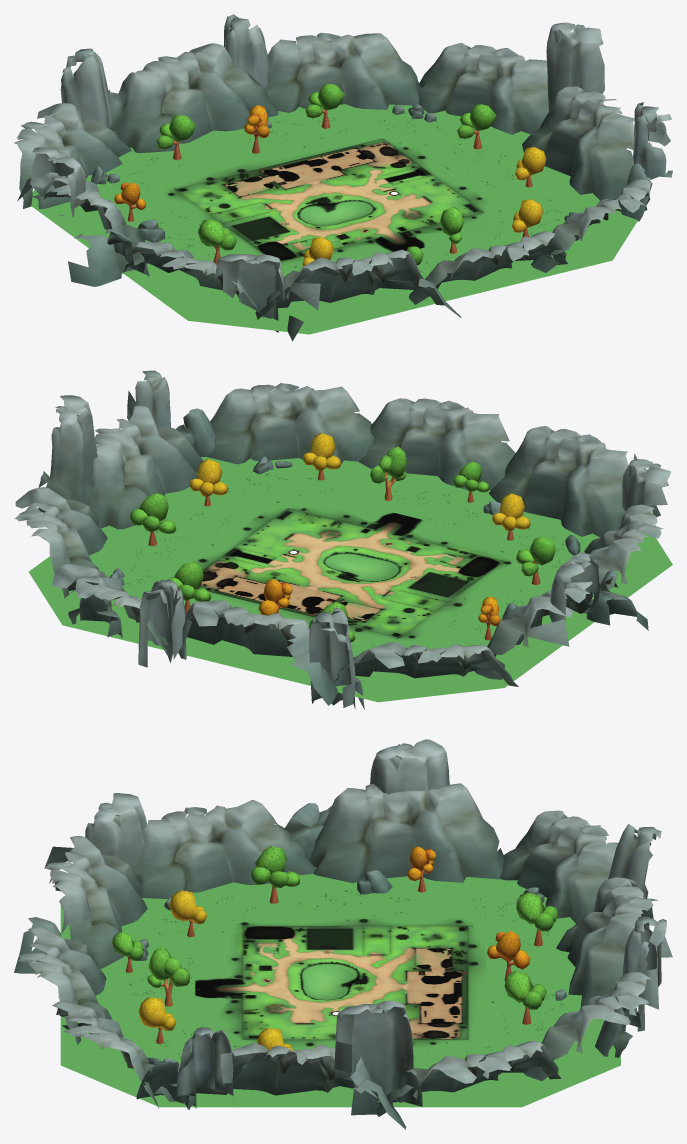
File: Map_Background.fbx
3 renders of one model, top to bottom at view 1: azimuth 30°, elevation 25°; view 2: azimuth 150°, elevation 25°; view 3: azimuth 270°, elevation 25°, orthographic. The views are drawn at different scales.
Parts seen in each view (by area): view 1: Ground, model_1.005, model_1.015, model_1.006, model_1.007, model_1.009, model_1.004, model_1.011, model_1.012, model_1.016, model_1.014, model_2.006 (+17 smaller); view 2: Ground, model_1.009, model_1.008, model_1.016, model_1.007, model_1.005, model_1.006, model_1.011, model_1.012, model_1.004, model_2.006, model_2.005 (+18 smaller); view 3: Ground, model_1.011, model_1.010, model_1.009, model_1.004, model_1.012, model_1.005, model_1.007, model_1.006, model_1.016, model_1.015, model_1.013 (+18 smaller).
Boxes of the visible parts, x1,y1,x2,y2 form: Ground: [31, 104, 637, 334]; model_1.005: [108, 43, 278, 153]; model_1.015: [264, 32, 421, 112]; model_1.006: [418, 43, 548, 134]; model_1.007: [522, 86, 634, 200]; model_1.009: [255, 249, 461, 341]; model_1.004: [14, 103, 131, 208]; model_1.011: [17, 172, 147, 286]; model_1.012: [546, 22, 604, 111]; model_1.016: [409, 231, 567, 304]; model_1.014: [214, 254, 284, 332]; model_2.006: [60, 48, 111, 128]; Ground: [29, 457, 672, 702]; model_1.009: [489, 426, 660, 537]; model_1.008: [207, 383, 373, 464]; model_1.016: [358, 398, 515, 490]; model_1.007: [88, 405, 203, 529]; model_1.005: [182, 600, 337, 705]; model_1.006: [14, 487, 107, 598]; model_1.011: [474, 581, 648, 679]; model_1.012: [38, 395, 97, 512]; model_1.004: [333, 642, 518, 686]; model_2.006: [309, 608, 364, 709]; model_2.005: [138, 580, 186, 667]; Ground: [60, 867, 620, 1107]; model_1.011: [309, 783, 504, 883]; model_1.010: [133, 800, 315, 898]; model_1.009: [14, 836, 147, 973]; model_1.004: [499, 810, 618, 923]; model_1.012: [334, 1000, 422, 1115]; model_1.005: [556, 877, 672, 1007]; model_1.007: [185, 1043, 406, 1129]; model_1.006: [375, 1040, 561, 1116]; model_1.016: [19, 926, 112, 1044]; model_1.015: [523, 972, 652, 1080]; model_1.013: [370, 739, 449, 794].
Size of the model in its own units: 158 by 35.93 by 147.
Materials: 6 (6 with a texture image).
